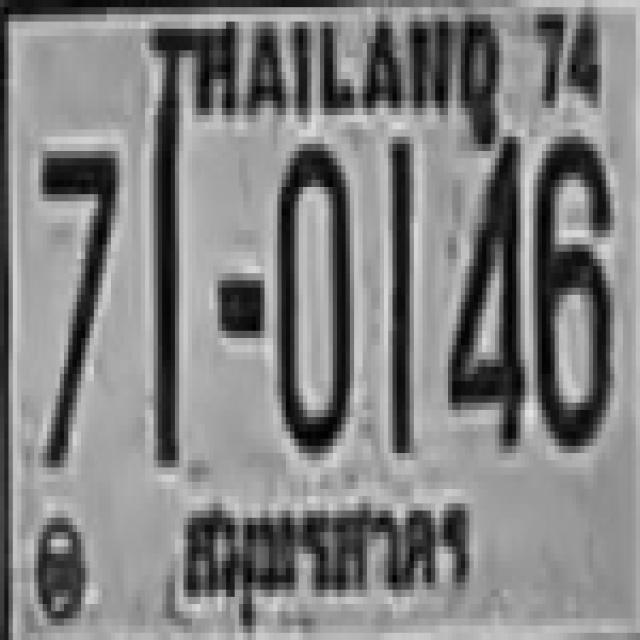0: (274, 138, 351, 448)
1: (386, 137, 412, 453)
4: (448, 133, 524, 449)
6: (532, 134, 610, 443)
7: (38, 144, 116, 460)
SKN: (172, 491, 487, 616)
